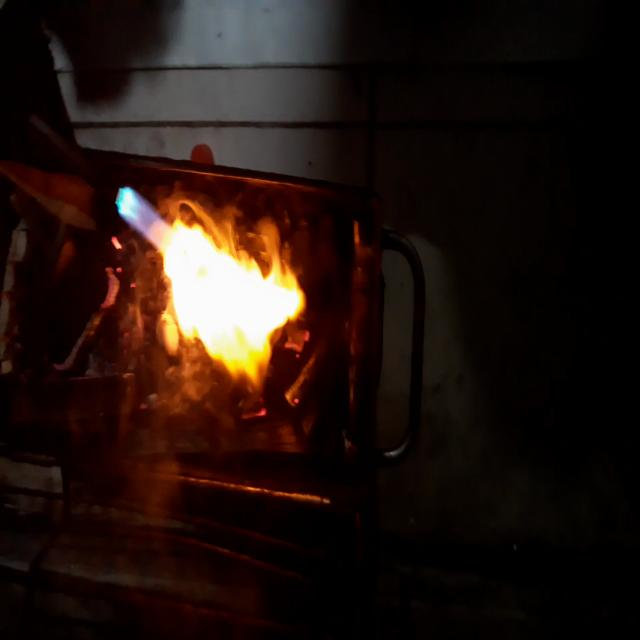Fire: (115, 177, 313, 403)
